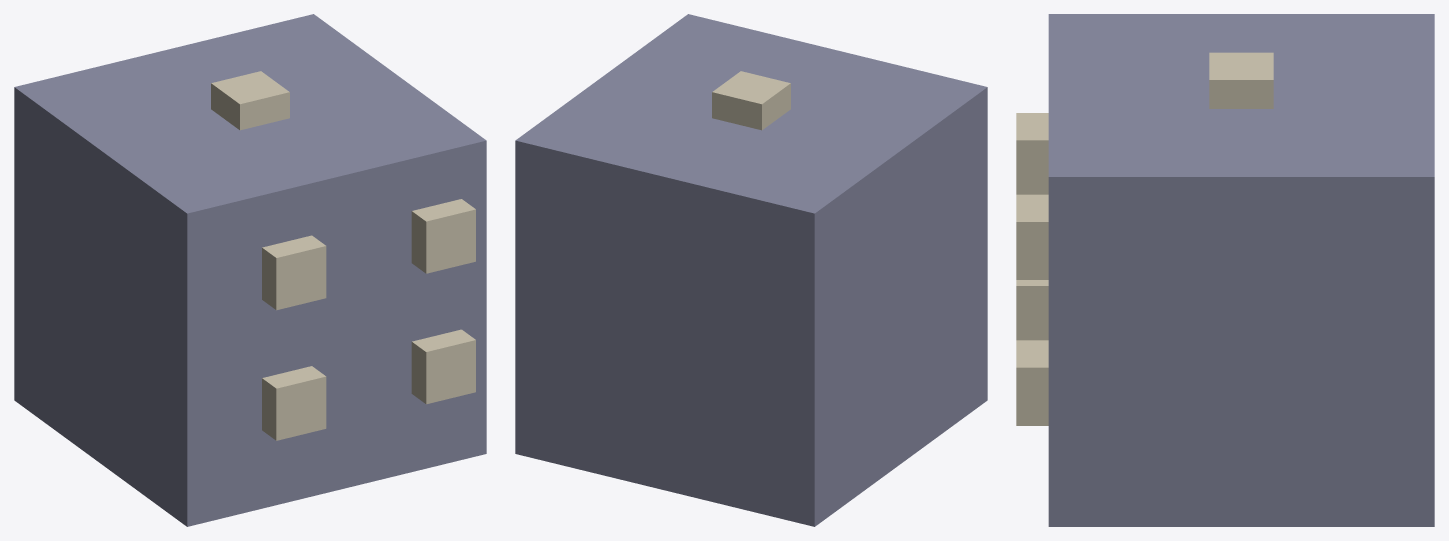
The model's file is mathematics-06.glb.
The picture shows the model from 3 angles, left to right: view 1: azimuth 30°, elevation 25°; view 2: azimuth 150°, elevation 25°; view 3: azimuth 270°, elevation 25°; orthographic projection. The views are drawn at different scales.
Visible parts, largest first — view 1: Probability dice; view 2: Probability dice; view 3: Probability dice.
Boxes of the visible parts, <box> form: Probability dice: <box>14,14,486,526</box>; Probability dice: <box>515,14,987,526</box>; Probability dice: <box>1016,14,1434,526</box>.
Size of the model in its own units: 0.96 by 1.04 by 1.04.
